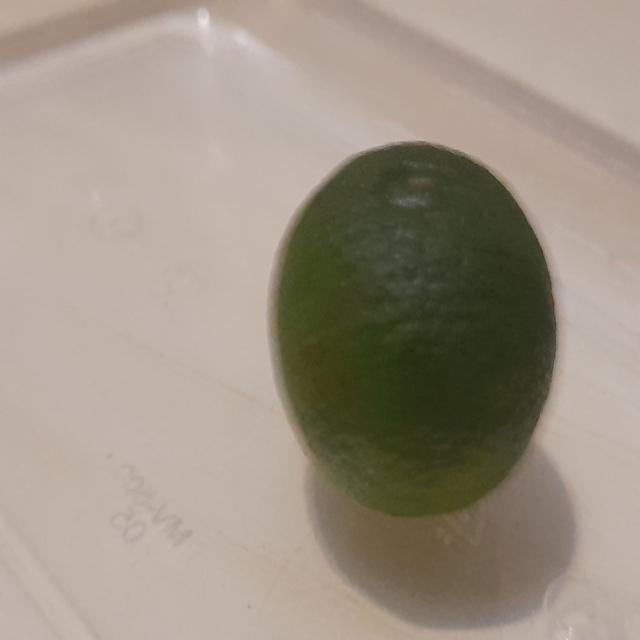heathy: (262, 134, 562, 534)
